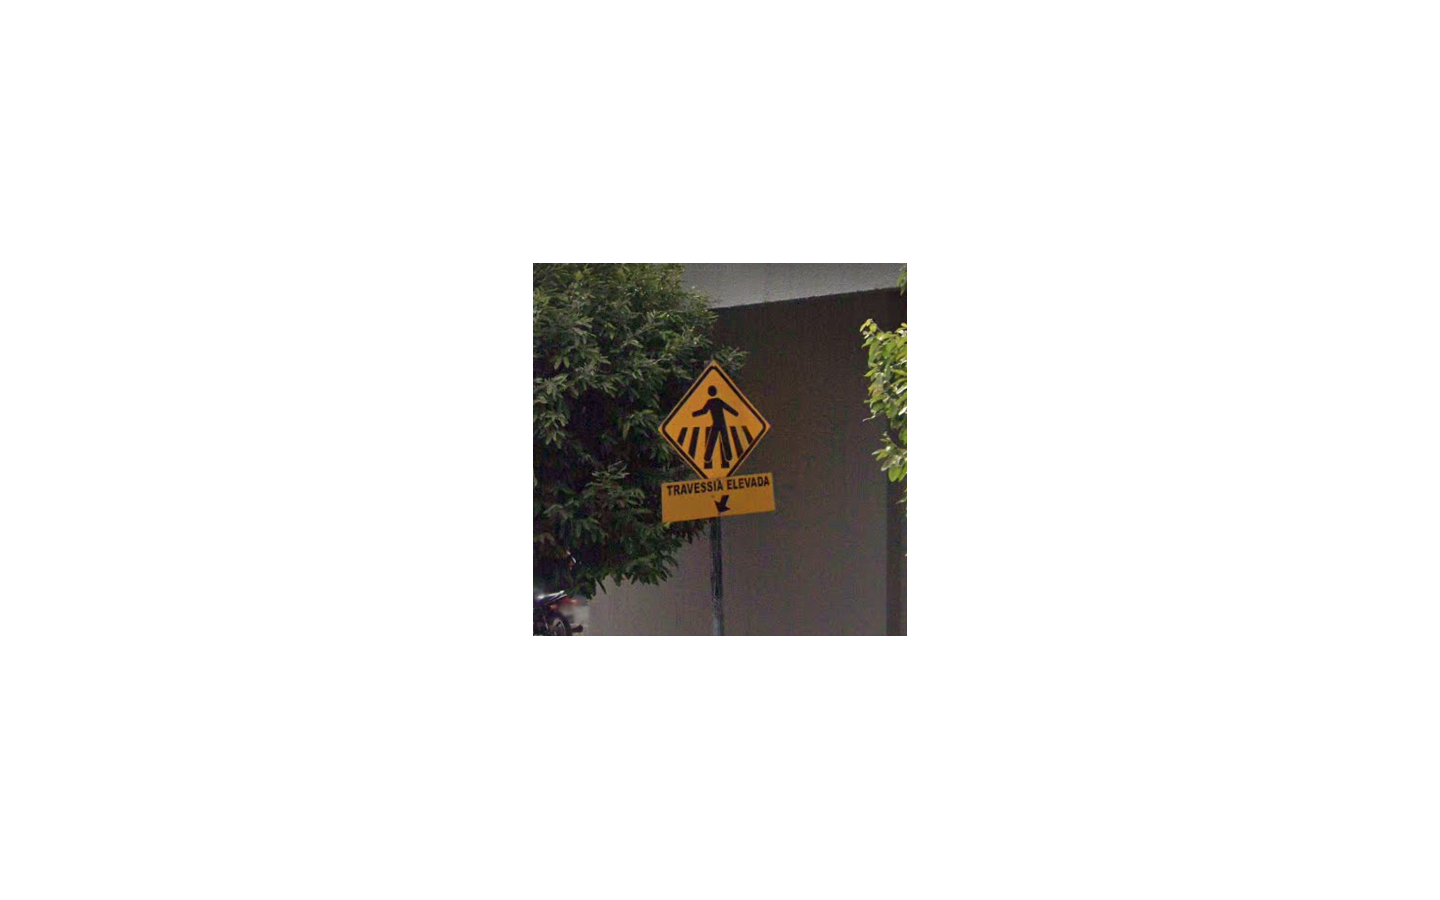telev: (657, 356, 775, 524)
